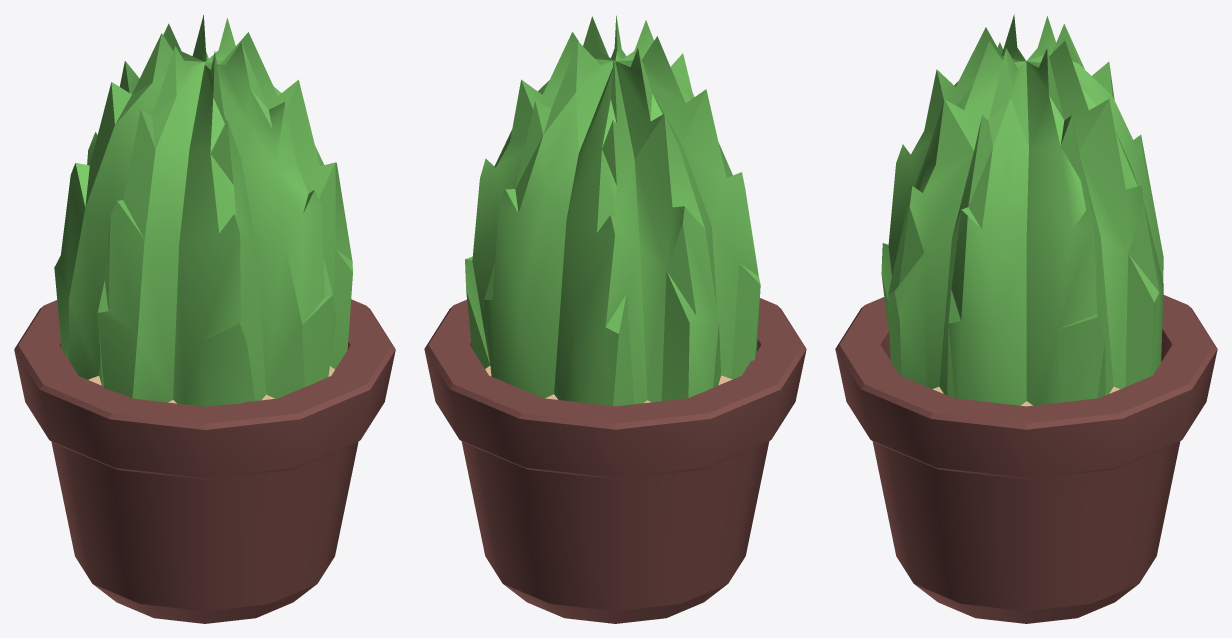
Rendered from Cacto1.fbx.
3 renders of one model, left to right at view 1: azimuth 30°, elevation 25°; view 2: azimuth 150°, elevation 25°; view 3: azimuth 270°, elevation 25°, orthographic.
Visible parts, largest first — view 1: Cacto.001; view 2: Cacto.001; view 3: Cacto.001.
Part boxes in pixels (<box>): Cacto.001: <box>14,15,395,623</box>; Cacto.001: <box>424,15,806,623</box>; Cacto.001: <box>835,14,1217,623</box>.
Size of the model in its own units: 0.3597 by 0.5704 by 0.3597.
